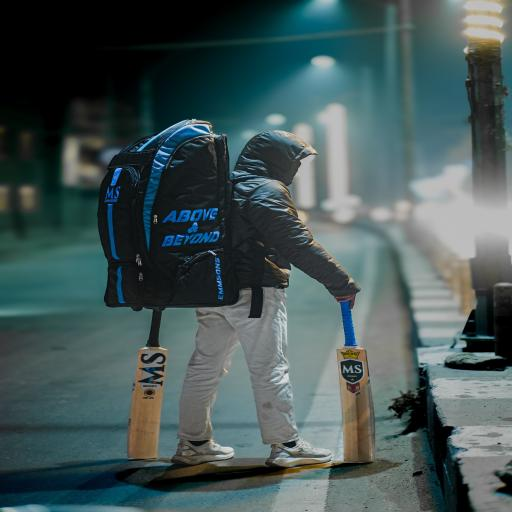shoe: (266, 439, 332, 467), (172, 440, 234, 465)
